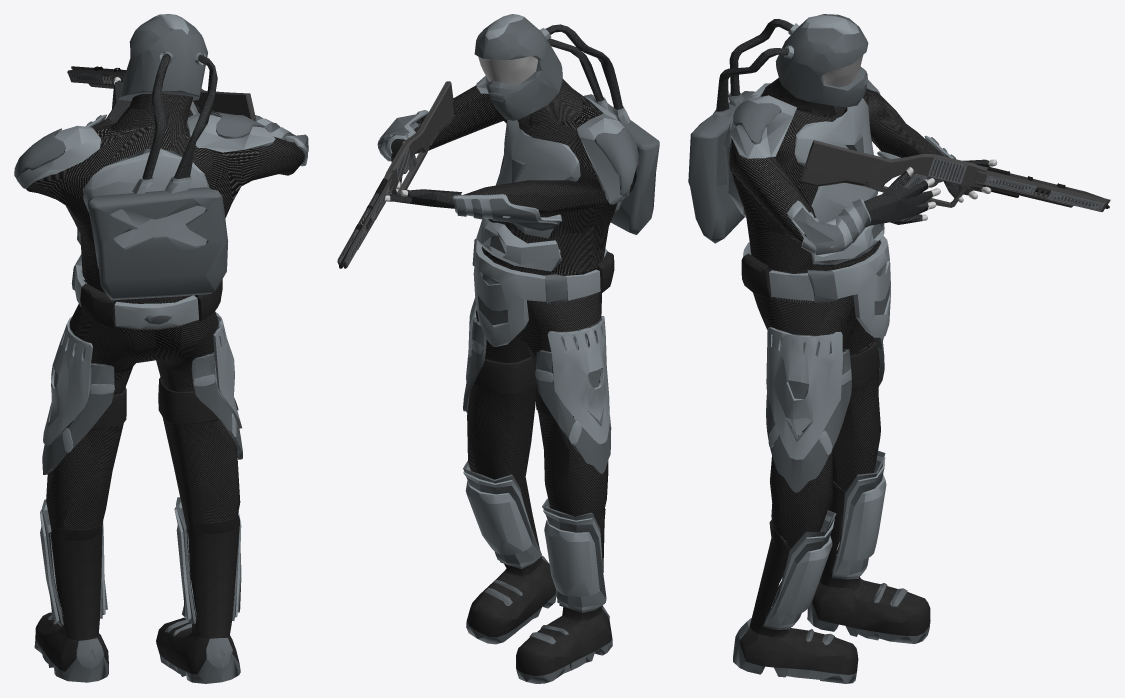
Rendered from ereposo.obj.
3 views of the same model, side by side, from view 1: azimuth 30°, elevation 25°; view 2: azimuth 150°, elevation 25°; view 3: azimuth 270°, elevation 25° (orthographic). The views are drawn at different scales.
Visible parts, largest first — view 1: personaje:extrudedSurface2 polySurface2, personaje:PANTALON polySurface2, personaje:bota1 polySurface2, personaje:CAMISETABUENA polySurface2, personaje:pPipe4 polySurface2, personaje:pCube4 polySurface2, personaje:cinturon polySurface2, personaje:cosoarmdaurapierna1 polySurface2, personaje:polySurface6 polySurface2, escopeta:Cylinder001 polySurface2, personaje:armadbota1 polySurface2, personaje:cosoarmadurapierna2 polySurface2 (+4 smaller); view 2: personaje:PANTALON polySurface2, personaje:CAMISETABUENA polySurface2, personaje:bota1 polySurface2, personaje:pPipe4 polySurface2, personaje:extrudedSurface2 polySurface2, personaje:armadbota1 polySurface2, personaje:cinturon polySurface2, personaje:pCube4 polySurface2, personaje:cosoarmdaurapierna1 polySurface2, escopeta:Cylinder001 polySurface2, personaje:polySurface6 polySurface2, personaje:HOMBRO2 polySurface2 (+6 smaller); view 3: personaje:bota1 polySurface2, personaje:pPipe4 polySurface2, personaje:extrudedSurface2 polySurface2, personaje:CAMISETABUENA polySurface2, personaje:pCube4 polySurface2, personaje:PANTALON polySurface2, escopeta:Cylinder001 polySurface2, personaje:cinturon polySurface2, personaje:armadbota1 polySurface2, personaje:cosoarmadurapierna2 polySurface2, personaje:hombro1 polySurface2, personaje:partearmdBRAZO2 polySurface2 (+3 smaller).
Boxes of the visible parts, left/top/right/bottom form: personaje:extrudedSurface2 polySurface2: left=87, top=14, right=228, bottom=300; personaje:PANTALON polySurface2: left=46, top=295, right=240, bottom=535; personaje:bota1 polySurface2: left=34, top=515, right=240, bottom=683; personaje:CAMISETABUENA polySurface2: left=21, top=93, right=304, bottom=329; personaje:pPipe4 polySurface2: left=14, top=80, right=308, bottom=245; personaje:pCube4 polySurface2: left=42, top=312, right=241, bottom=626; personaje:cinturon polySurface2: left=71, top=255, right=222, bottom=328; personaje:cosoarmdaurapierna1 polySurface2: left=43, top=316, right=114, bottom=452; personaje:polySurface6 polySurface2: left=90, top=377, right=219, bottom=430; escopeta:Cylinder001 polySurface2: left=67, top=66, right=256, bottom=121; personaje:armadbota1 polySurface2: left=40, top=502, right=241, bottom=622; personaje:cosoarmadurapierna2 polySurface2: left=191, top=352, right=242, bottom=459; personaje:PANTALON polySurface2: left=467, top=252, right=608, bottom=525; personaje:CAMISETABUENA polySurface2: left=389, top=79, right=636, bottom=302; personaje:bota1 polySurface2: left=466, top=473, right=612, bottom=683; personaje:pPipe4 polySurface2: left=379, top=75, right=630, bottom=271; personaje:extrudedSurface2 polySurface2: left=474, top=14, right=659, bottom=234; personaje:armadbota1 polySurface2: left=463, top=464, right=604, bottom=610; personaje:cinturon polySurface2: left=472, top=228, right=614, bottom=346; personaje:pCube4 polySurface2: left=463, top=297, right=610, bottom=612; personaje:cosoarmdaurapierna1 polySurface2: left=535, top=316, right=611, bottom=445; escopeta:Cylinder001 polySurface2: left=337, top=81, right=455, bottom=268; personaje:polySurface6 polySurface2: left=474, top=355, right=553, bottom=418; personaje:HOMBRO2 polySurface2: left=594, top=128, right=638, bottom=195; personaje:bota1 polySurface2: left=733, top=481, right=930, bottom=683; personaje:pPipe4 polySurface2: left=724, top=80, right=989, bottom=264; personaje:extrudedSurface2 polySurface2: left=688, top=14, right=868, bottom=243; personaje:CAMISETABUENA polySurface2: left=729, top=77, right=944, bottom=303; personaje:pCube4 polySurface2: left=763, top=327, right=885, bottom=629; personaje:PANTALON polySurface2: left=753, top=253, right=880, bottom=569; escopeta:Cylinder001 polySurface2: left=800, top=140, right=1110, bottom=211; personaje:cinturon polySurface2: left=741, top=236, right=890, bottom=337; personaje:armadbota1 polySurface2: left=764, top=455, right=886, bottom=628; personaje:cosoarmadurapierna2 polySurface2: left=766, top=338, right=851, bottom=492; personaje:hombro1 polySurface2: left=733, top=100, right=781, bottom=144; personaje:partearmdBRAZO2 polySurface2: left=787, top=199, right=871, bottom=256.
Bounding box in the file's own units: 4.26 × 9.67 × 5.63.
